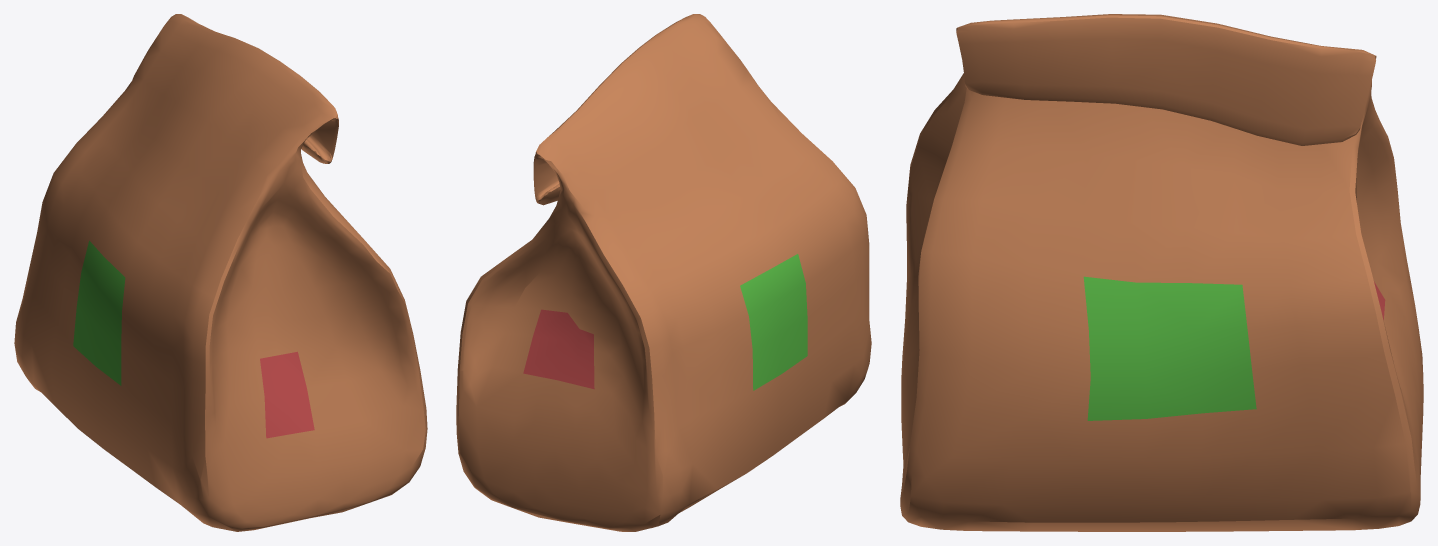
File: Packaging_01.glb
The picture shows the model from 3 angles, left to right: view 1: azimuth 30°, elevation 25°; view 2: azimuth 150°, elevation 25°; view 3: azimuth 270°, elevation 25°; orthographic projection. The views are drawn at different scales.
Parts seen in each view (by area): view 1: Mesh_Packaging_01; view 2: Mesh_Packaging_01; view 3: Mesh_Packaging_01.
Part boxes in pixels (left/top/right/bottom): Mesh_Packaging_01: left=14, top=14, right=427, bottom=531; Mesh_Packaging_01: left=456, top=14, right=871, bottom=531; Mesh_Packaging_01: left=900, top=14, right=1423, bottom=531.
Bounding box in the file's own units: 0.2061 × 0.3174 × 0.3008.
1 material, 1 textured.
